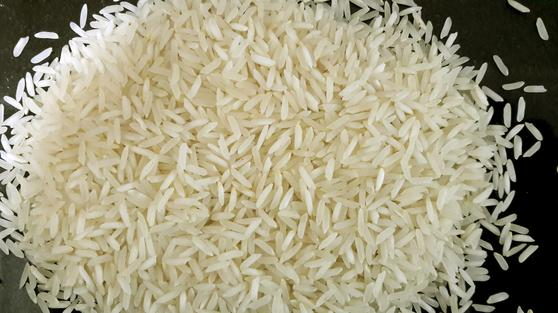rice: (98, 26, 423, 250)
